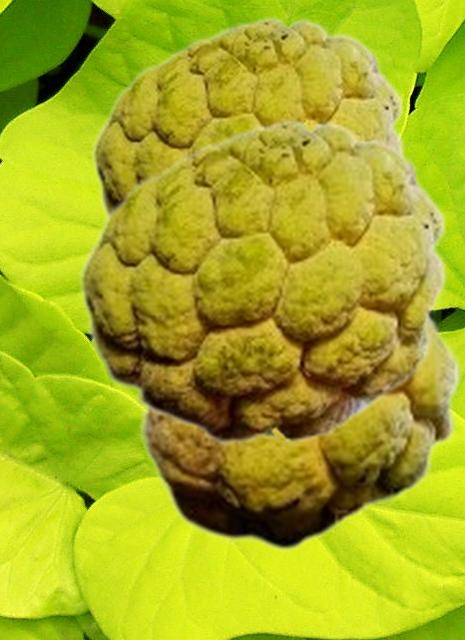atis: (77, 118, 447, 444), (138, 316, 461, 550), (90, 16, 404, 218)
